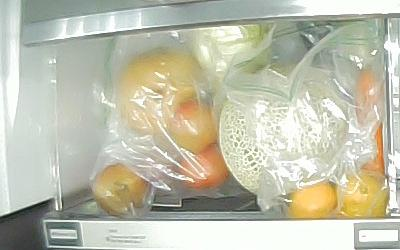cabbage_vinyl: (189, 23, 276, 73)
carrot_vinyl: (354, 68, 386, 175)
melon_vinyl: (218, 64, 349, 195)
pear_vinyl: (117, 48, 207, 136)
prune_vinyl: (90, 163, 153, 220), (167, 102, 220, 152), (176, 144, 231, 191)
tangerine_vinyl: (338, 172, 389, 220), (289, 181, 337, 218)
